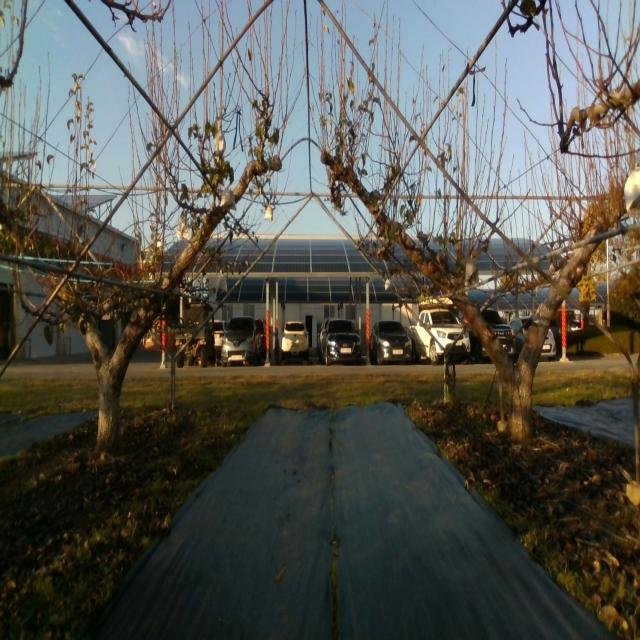pearbags: (623, 169, 640, 214), (219, 188, 236, 212), (177, 216, 191, 240), (214, 129, 226, 156), (465, 261, 479, 284)
